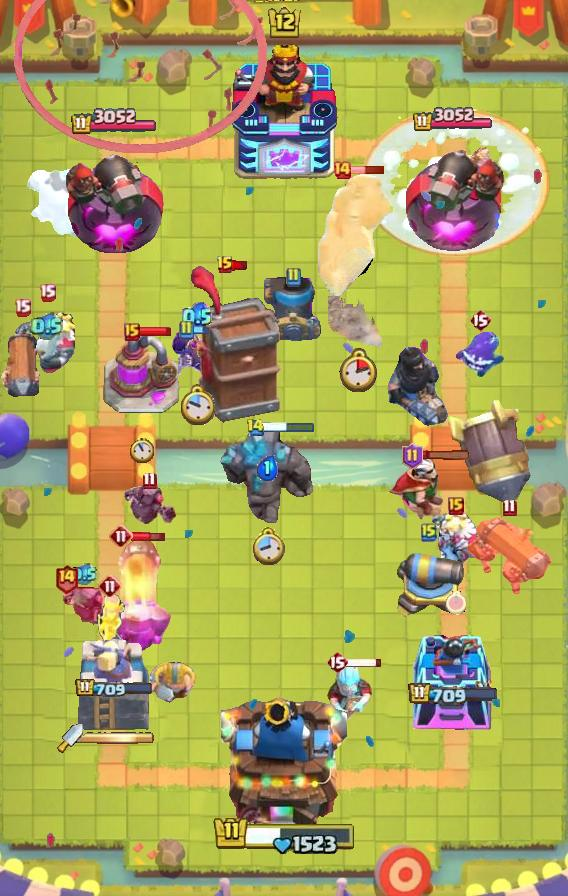bar: (77, 637, 151, 731)
battle-healer: (464, 515, 554, 597), (0, 322, 44, 406)
battle-ram: (119, 480, 179, 528), (61, 583, 107, 629)
cannon: (95, 593, 125, 657)
cannoneer-tower: (218, 425, 316, 527)
clock: (212, 812, 356, 854)
dart-goblin: (191, 265, 281, 423)
electro-spirit: (31, 311, 63, 340), (182, 302, 212, 332), (71, 562, 97, 586), (256, 455, 278, 481)
elixir: (339, 348, 377, 392), (179, 385, 215, 427), (250, 525, 286, 565), (130, 437, 154, 463), (446, 590, 466, 614)
emote: (261, 422, 314, 435), (420, 451, 472, 462), (130, 529, 165, 542), (345, 656, 383, 667), (138, 327, 172, 338), (350, 165, 385, 175), (192, 324, 210, 336), (231, 260, 248, 272)
fisherman: (328, 296, 388, 354)
furnace: (104, 535, 172, 655)
goblin-ball: (170, 329, 224, 379)
goblin-giant: (149, 661, 197, 704)
inferno-dragon: (386, 345, 450, 428)
king-tower: (221, 690, 347, 826), (230, 41, 338, 181)
king-tower-bar: (83, 731, 155, 745)
mortar: (326, 658, 374, 722)
mortar-evolution: (15, 307, 79, 379), (429, 505, 483, 567)
musketeer: (263, 277, 323, 341)
pekka: (103, 333, 181, 415)
phoenix-big: (362, 107, 550, 257)
queen-tower: (412, 623, 494, 731)
rage: (24, 168, 88, 240)
royal-recruit: (393, 538, 465, 622)
selected: (70, 108, 158, 136), (409, 682, 500, 707), (412, 107, 494, 133), (74, 677, 154, 699)
skeleton-barrel: (14, 1, 270, 156)
skeleton-king: (385, 456, 463, 524)
spear-goblin: (454, 332, 506, 378)
text: (53, 562, 78, 593), (109, 524, 133, 548), (98, 574, 122, 598), (401, 443, 422, 469), (469, 308, 491, 332), (326, 650, 348, 674), (332, 160, 352, 180), (246, 419, 265, 438), (216, 255, 234, 275), (39, 283, 57, 301), (285, 267, 301, 287), (178, 320, 194, 340), (421, 522, 437, 542), (13, 299, 30, 317), (124, 323, 140, 341), (448, 497, 464, 515), (143, 470, 158, 489), (502, 498, 517, 517)
tower-bar: (402, 136, 504, 256), (64, 138, 164, 256)
wizard: (317, 174, 393, 300)
x-bow: (447, 398, 531, 505)
